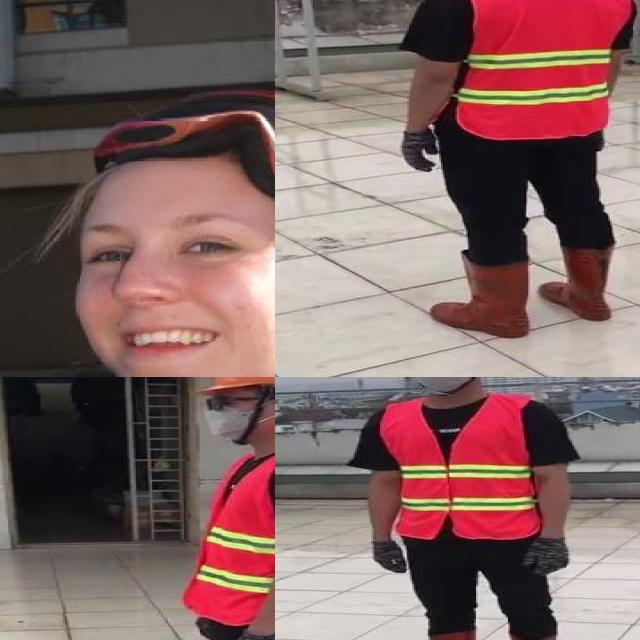boots: (428, 252, 530, 337), (538, 244, 612, 324)
face_mask: (200, 392, 262, 442), (397, 377, 483, 396)
face_nomask: (56, 219, 275, 377)
glasses: (198, 391, 239, 414)
hand_glove: (398, 131, 439, 173), (368, 537, 412, 574), (528, 536, 568, 575)
head_nohelmet: (76, 81, 275, 200)
person: (390, 0, 640, 341), (0, 89, 275, 377), (337, 377, 584, 640), (153, 377, 275, 640)
vest: (439, 0, 631, 139), (387, 397, 542, 539), (182, 442, 275, 628)
